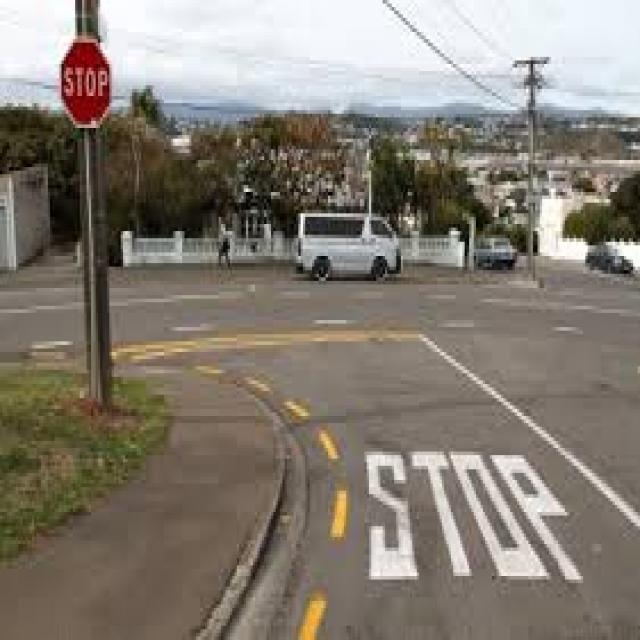stop-sign: (54, 35, 134, 144)
